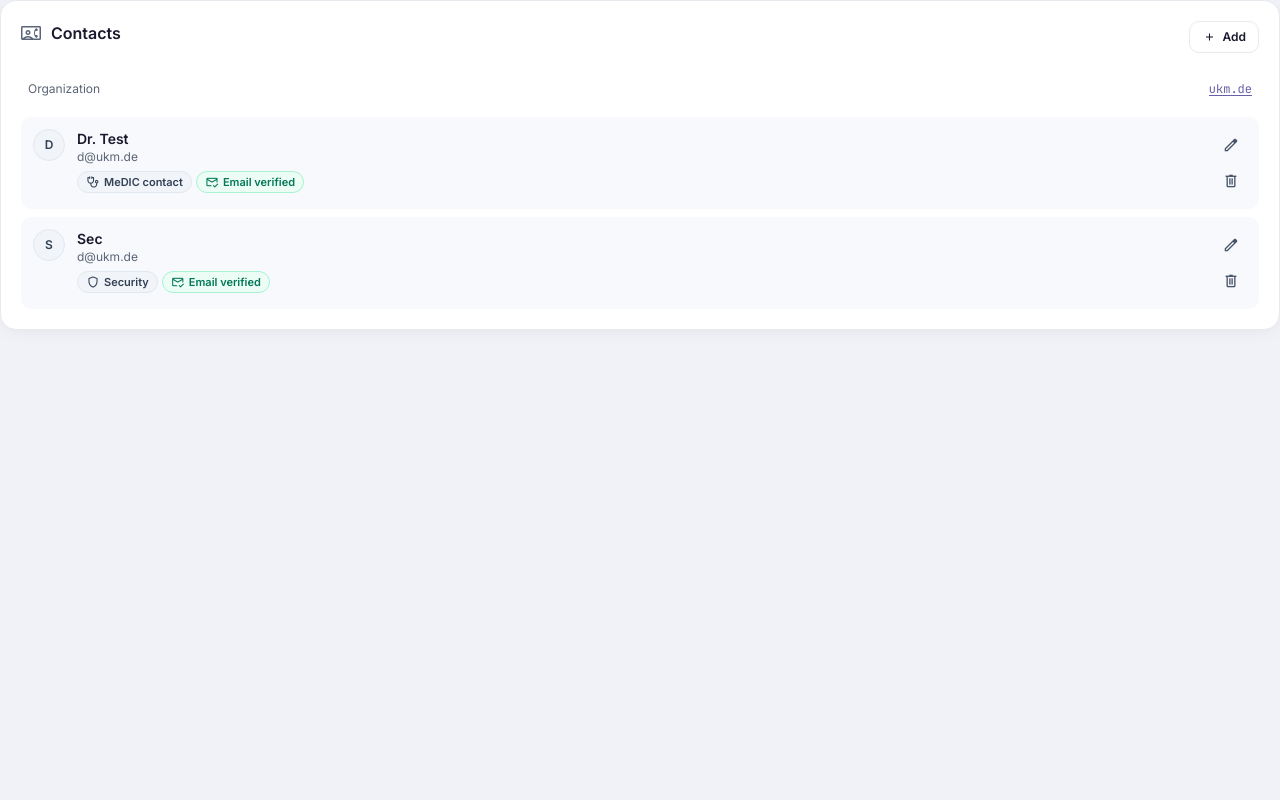
Test case: ContactsCard deletion › tells that security and DSF admin contacts lose the expiry reminders
The width and height of the screenshot is (1280, 800).
What coordinates should you click on to do the following:
click the button named "delete contact"
I would click on:
 (1231, 281)
Its box is [1215,265,1247,297].
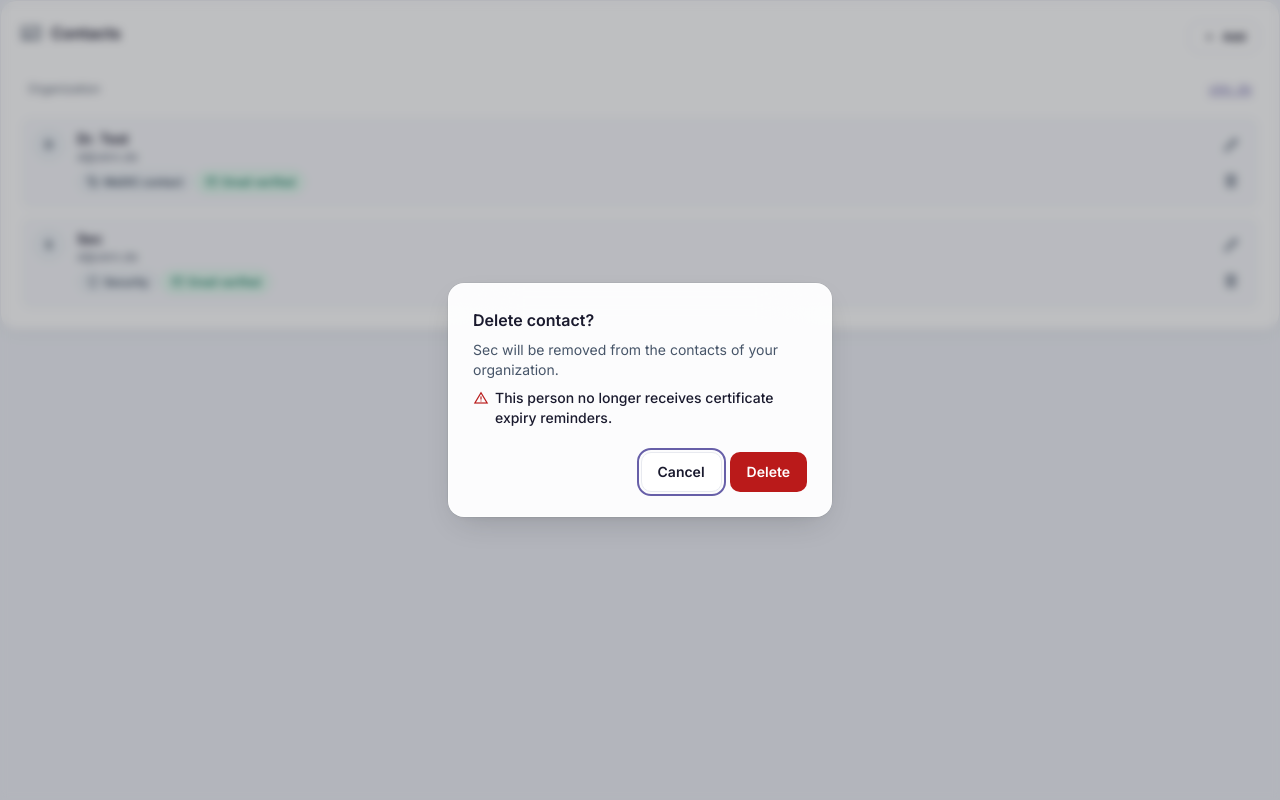
Now the text "This person no longer receives certificate expiry reminders." is shown, box [495,388,807,428]
